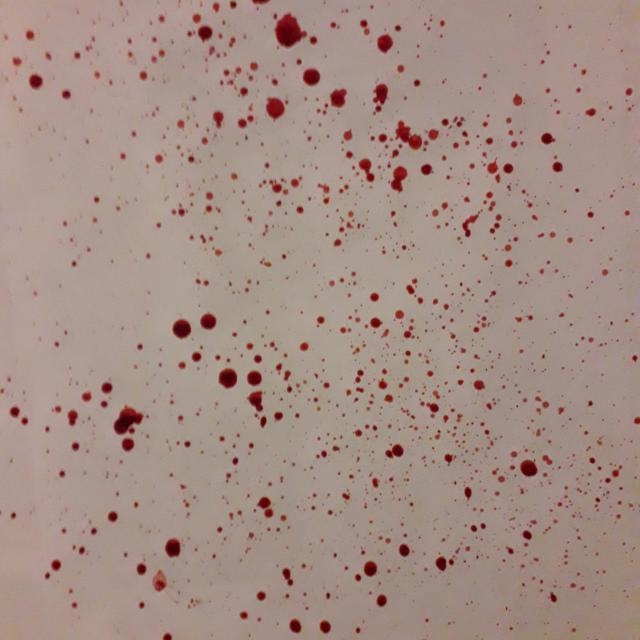wound: (317, 299, 624, 586), (300, 62, 606, 300), (46, 493, 362, 640), (46, 302, 296, 462), (177, 1, 441, 150)
